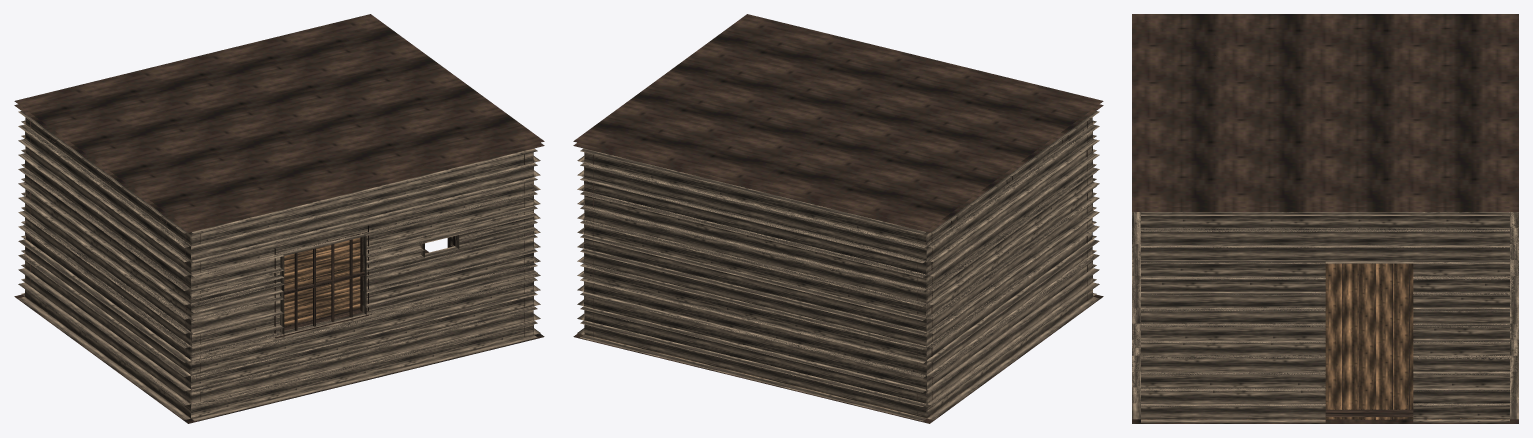
The model's file is ThaiHouse_Interior.obj.
3 views of the same model, side by side, from view 1: azimuth 30°, elevation 25°; view 2: azimuth 150°, elevation 25°; view 3: azimuth 270°, elevation 25° (orthographic). The views are drawn at different scales.
Visible parts, largest first — view 1: M_Wall_Planks, M_Dark_Wood, M_Floor_Planks; view 2: M_Wall_Planks, M_Dark_Wood; view 3: M_Dark_Wood, M_Wall_Planks, M_Floor_Planks.
Part boxes in pixels (bbox=[...]): M_Wall_Planks: bbox=[18, 111, 540, 421]; M_Dark_Wood: bbox=[14, 14, 544, 423]; M_Floor_Planks: bbox=[26, 237, 360, 417]; M_Wall_Planks: bbox=[577, 111, 1099, 421]; M_Dark_Wood: bbox=[573, 14, 1103, 423]; M_Dark_Wood: bbox=[1132, 14, 1518, 423]; M_Wall_Planks: bbox=[1132, 212, 1518, 422]; M_Floor_Planks: bbox=[1141, 263, 1509, 419].
Bounding box in the file's own units: 5.2 × 2.72 × 4.4.
Materials: 3 (3 with a texture image).
